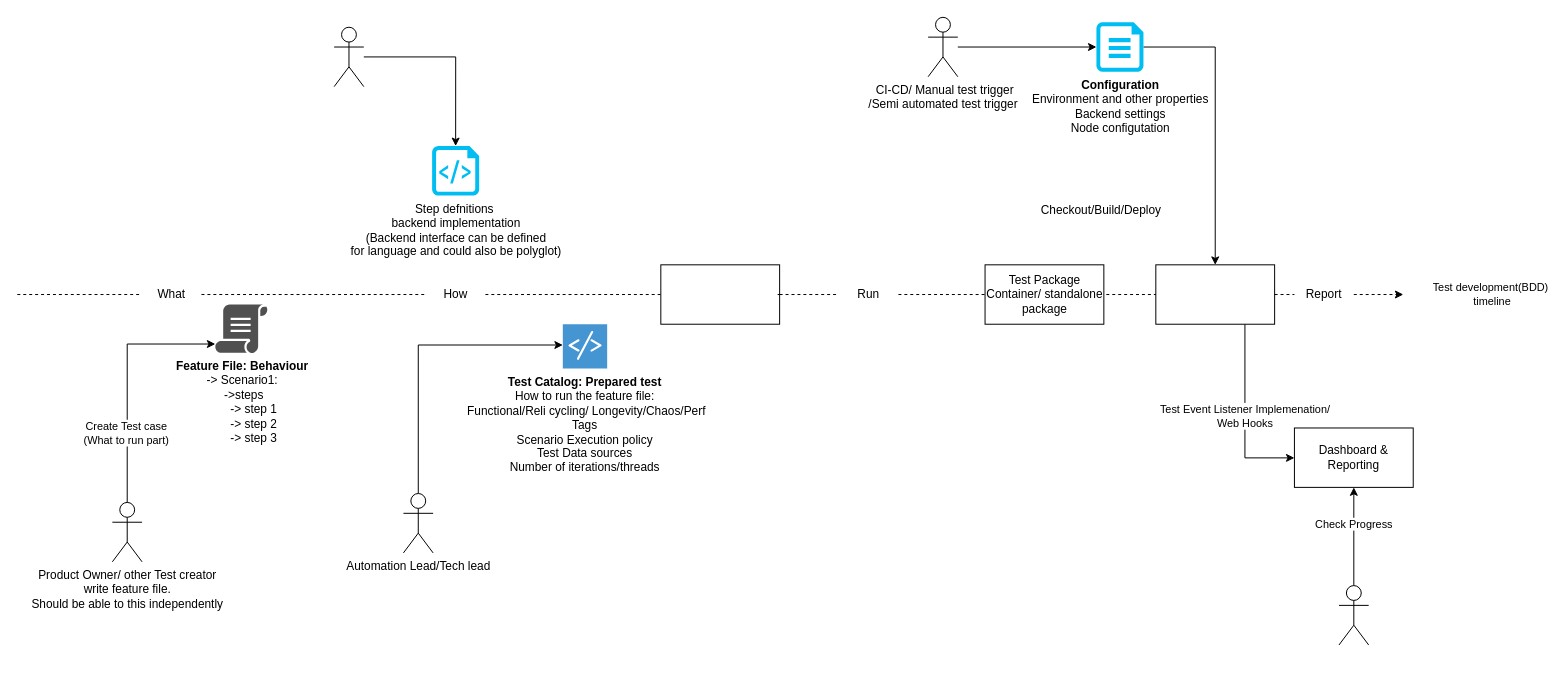
The diagram is 1565 pixels wide and 683 high, and some of its shapes have lost their labels. The shapes that lost their labels are listed below. From the top down, each one's centre as x and y in pixels, then its label:
At (x=348, y=56): "Automation Engineer/Developer Implement".
At (x=720, y=294): "Version control (Git)".
At (x=1215, y=294): "Execution Engine (API)".
At (x=1353, y=615): "Stakeholders".
